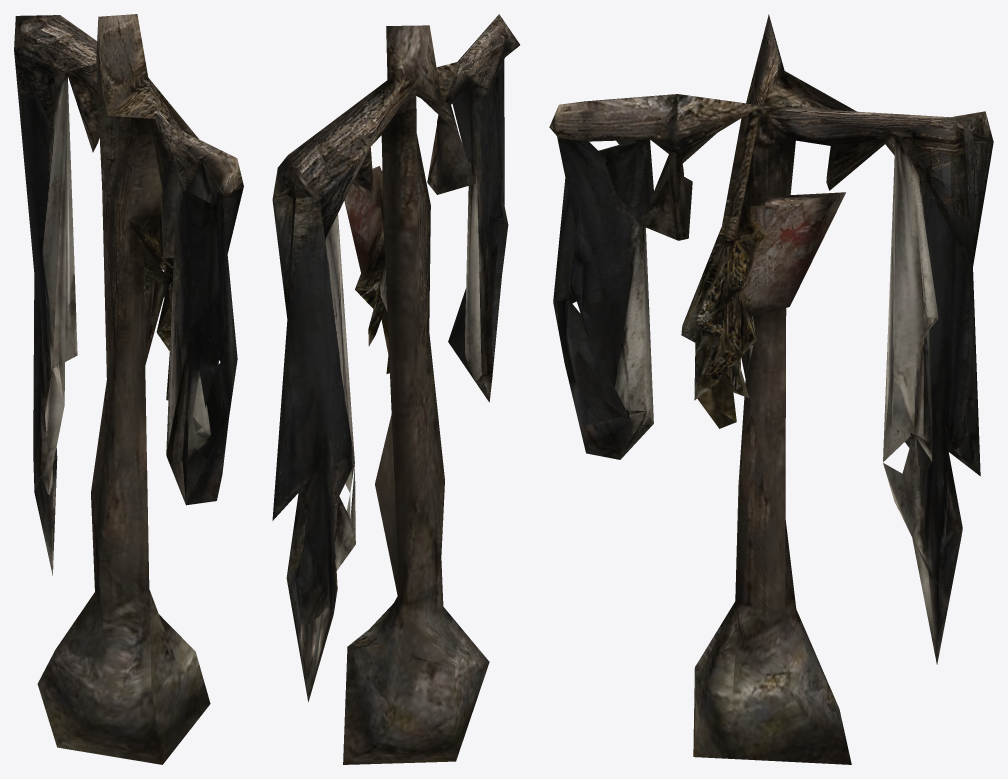
File: plaguepost.glb
3 views of the same model, side by side, from view 1: azimuth 30°, elevation 25°; view 2: azimuth 150°, elevation 25°; view 3: azimuth 270°, elevation 25° (orthographic).
Parts seen in each view (by area): view 1: tripo_node_2b368c24-04a9-49ed-b7f8-253148673b53; view 2: tripo_node_2b368c24-04a9-49ed-b7f8-253148673b53; view 3: tripo_node_2b368c24-04a9-49ed-b7f8-253148673b53.
Boxes of the visible parts, x1,y1,x2,y2 form: tripo_node_2b368c24-04a9-49ed-b7f8-253148673b53: (14, 14, 243, 764); tripo_node_2b368c24-04a9-49ed-b7f8-253148673b53: (272, 14, 519, 764); tripo_node_2b368c24-04a9-49ed-b7f8-253148673b53: (549, 14, 993, 764).
Size of the model in its own units: 0.1953 by 1 by 0.5512.
Materials: 1 (1 with a texture image).
